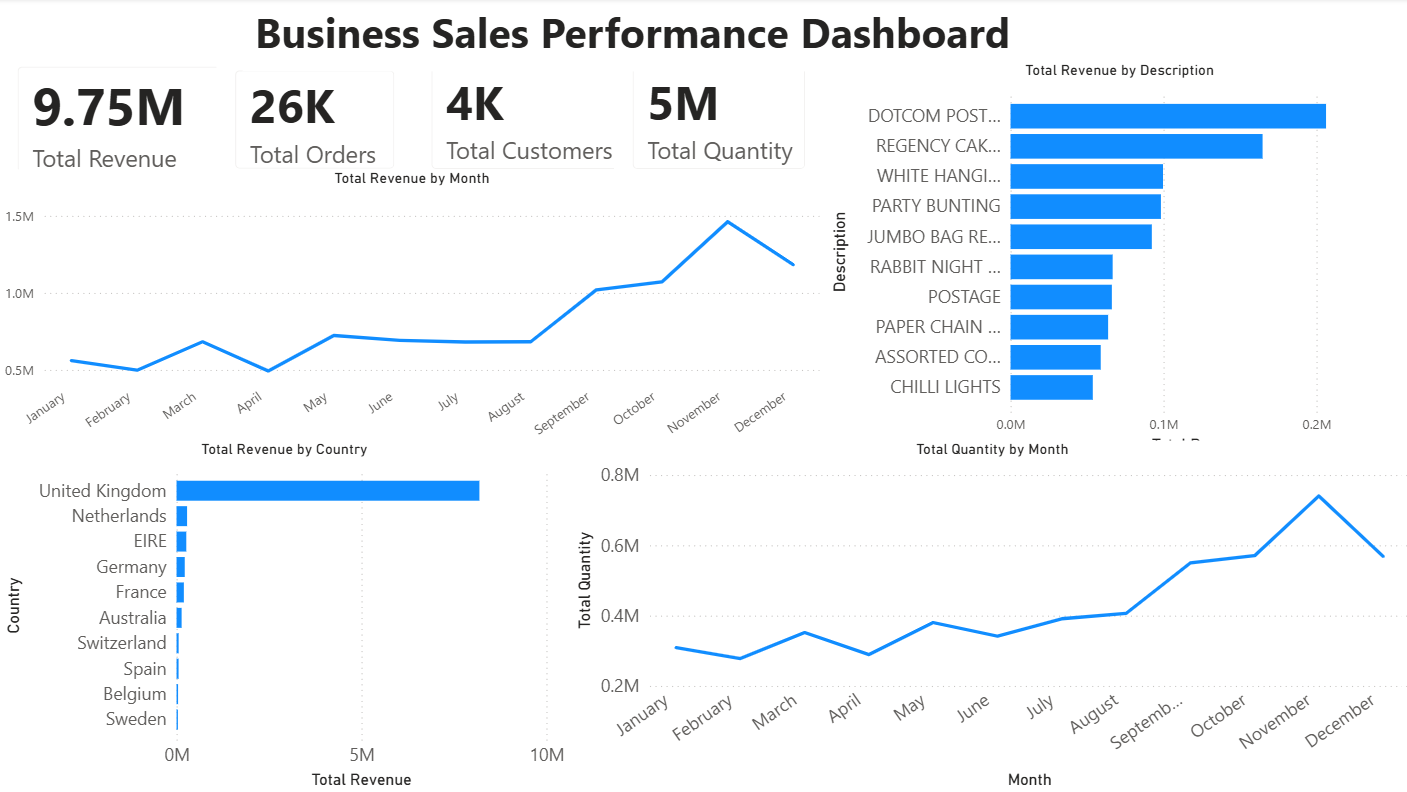

What the dashboard file says about the page in this screenshot:
{"tool":"powerbi","page":{"name":"Page 1","canvas":[1280,720],"ordinal":0},"visuals":[{"type":"cardVisual","fields":{"Data":["online_retail.Total Revenue"]},"box":[0,45.5,230.9,130.9],"z":0},{"type":"cardVisual","fields":{"Data":["online_retail.Total Orders"]},"box":[196.4,49.1,178.2,123.6],"z":1000},{"type":"cardVisual","fields":{"Data":["online_retail.Total Customers"]},"box":[374.5,41.8,212.7,130.9],"z":2000},{"type":"lineChart","fields":{"Category":["online_retail.InvoiceDate.Variation.Date Hierarchy.Month"],"Y":["online_retail.Total Revenue"]},"box":[0,154.5,747.3,263.6],"z":3000},{"type":"cardVisual","fields":{"Data":["online_retail.Total Quantity"]},"box":[556.4,41.8,190.9,130.9],"z":4000},{"type":"clusteredBarChart","fields":{"Category":["online_retail.Description"],"Y":["online_retail.Total Revenue"]},"box":[747.3,58.2,532.7,360],"z":5000},{"type":"clusteredBarChart","fields":{"Category":["online_retail.Country"],"Y":["online_retail.Total Revenue"]},"box":[0,400,516.4,320],"z":6000},{"type":"lineChart","fields":{"Category":["online_retail.InvoiceDate.Variation.Date Hierarchy.Month"],"Y":["online_retail.Total Quantity"]},"box":[516.4,400,763.6,320],"z":7000},{"type":"textbox","box":[196.5,0,726.7,68.6],"z":8000}]}

Visuals, with their boxes in screenshot pixels (x1, y1, x2, y2), scaled from the page's 1280x720 canvas onto the 1407x792 screenshot:
cardVisual - online_retail.Total Revenue: (left=0, top=50, right=254, bottom=194)
cardVisual - online_retail.Total Orders: (left=216, top=54, right=412, bottom=190)
cardVisual - online_retail.Total Customers: (left=412, top=46, right=645, bottom=190)
lineChart - online_retail.InvoiceDate.Variation.Date Hierarchy.Month x online_retail.Total Revenue: (left=0, top=170, right=821, bottom=460)
cardVisual - online_retail.Total Quantity: (left=612, top=46, right=821, bottom=190)
clusteredBarChart - online_retail.Description x online_retail.Total Revenue: (left=821, top=64, right=1406, bottom=460)
clusteredBarChart - online_retail.Country x online_retail.Total Revenue: (left=0, top=440, right=568, bottom=791)
lineChart - online_retail.InvoiceDate.Variation.Date Hierarchy.Month x online_retail.Total Quantity: (left=568, top=440, right=1406, bottom=791)
textbox: (left=216, top=0, right=1015, bottom=75)
